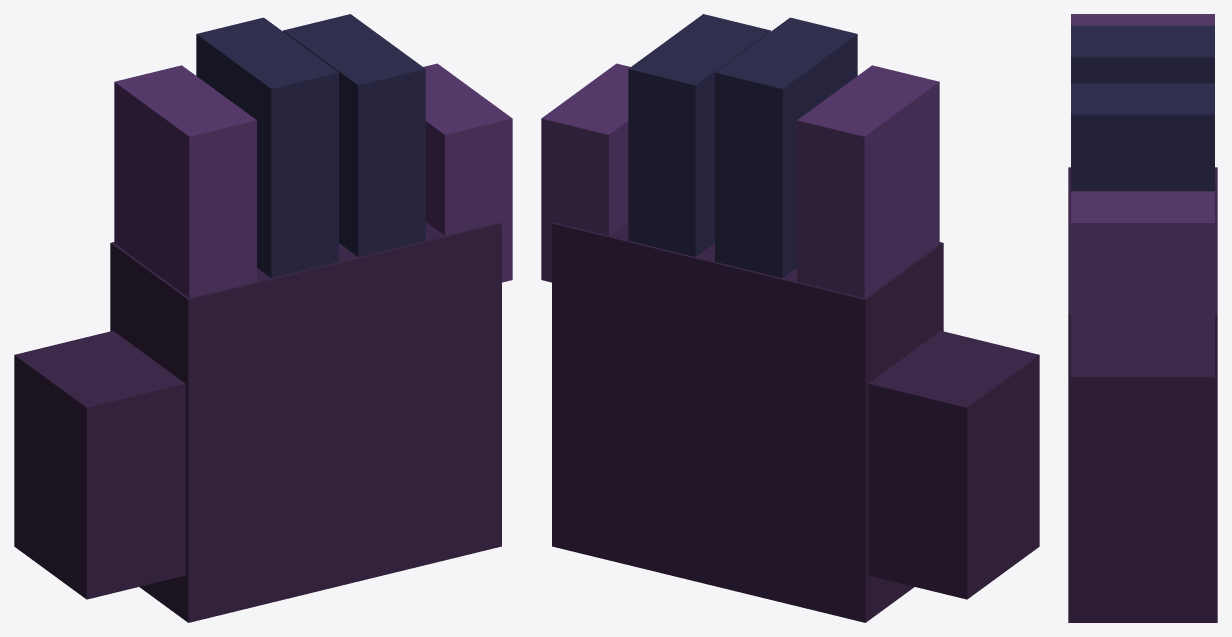
File: sun_hand.glb
3 renders of one model, left to right at view 1: azimuth 30°, elevation 25°; view 2: azimuth 150°, elevation 25°; view 3: azimuth 270°, elevation 25°, orthographic. The views are drawn at different scales.
Parts seen in each view (by area): view 1: world; view 2: world; view 3: world.
Boxes of the visible parts, <box> form: world: <box>14,14,512,622</box>; world: <box>541,14,1039,622</box>; world: <box>1068,14,1217,622</box>.
Bounding box in the file's own units: 0.88 × 1.01 × 0.28.
1 material, 1 textured.
